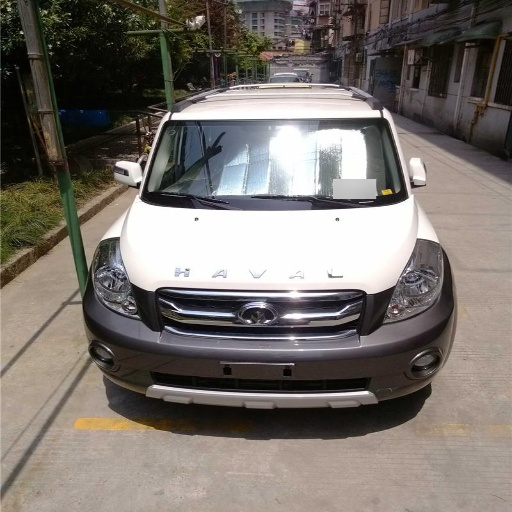front_bumper: (84, 284, 454, 402)
front_right_light: (92, 240, 141, 317)
hood: (123, 195, 416, 293)
